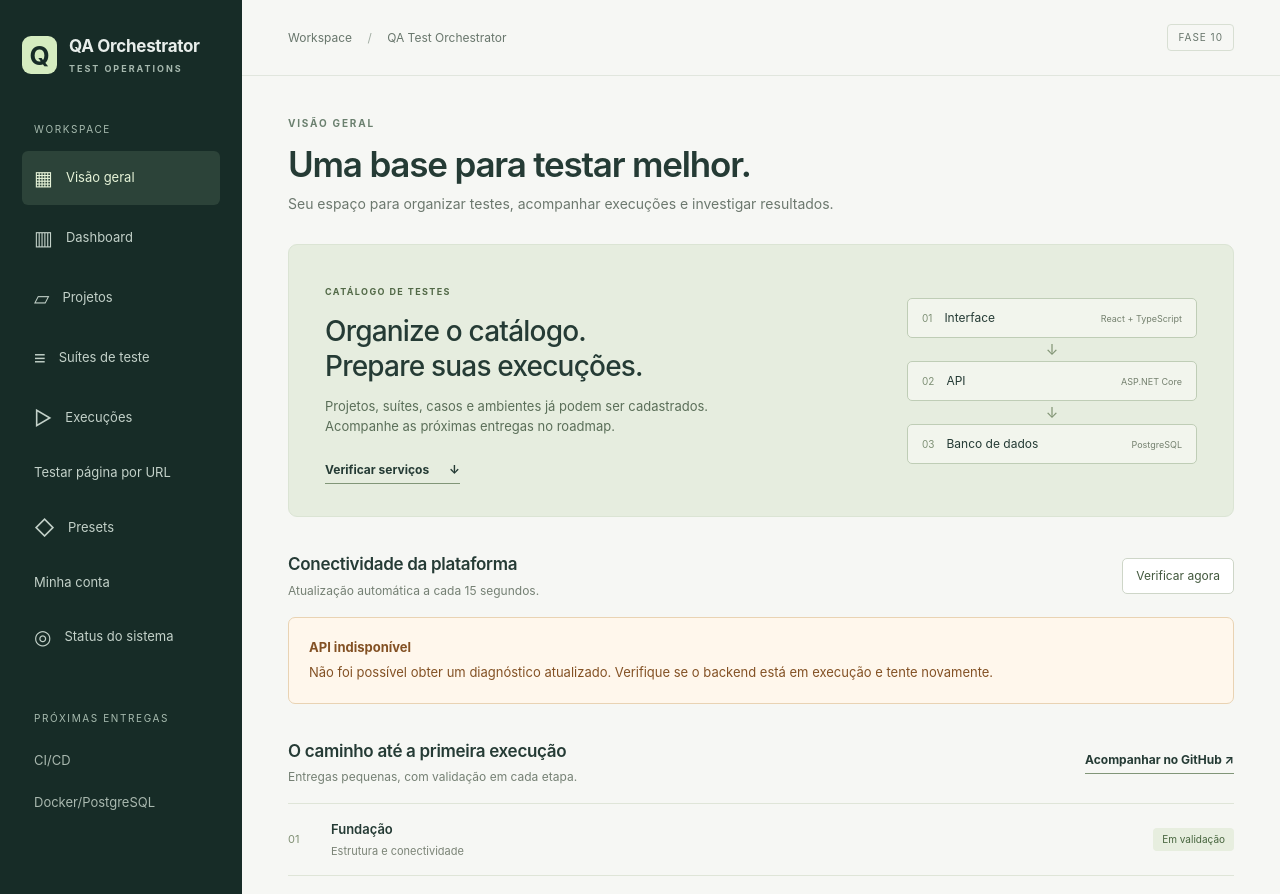
Scenario: Fundação da plataforma › permite tentar novamente após falha HTTP
Expected: the message shows "API indisponível", [309,638,411,654]
Click the button "Verificar agora".
click(1178, 576)  # box [1122,558,1234,594]
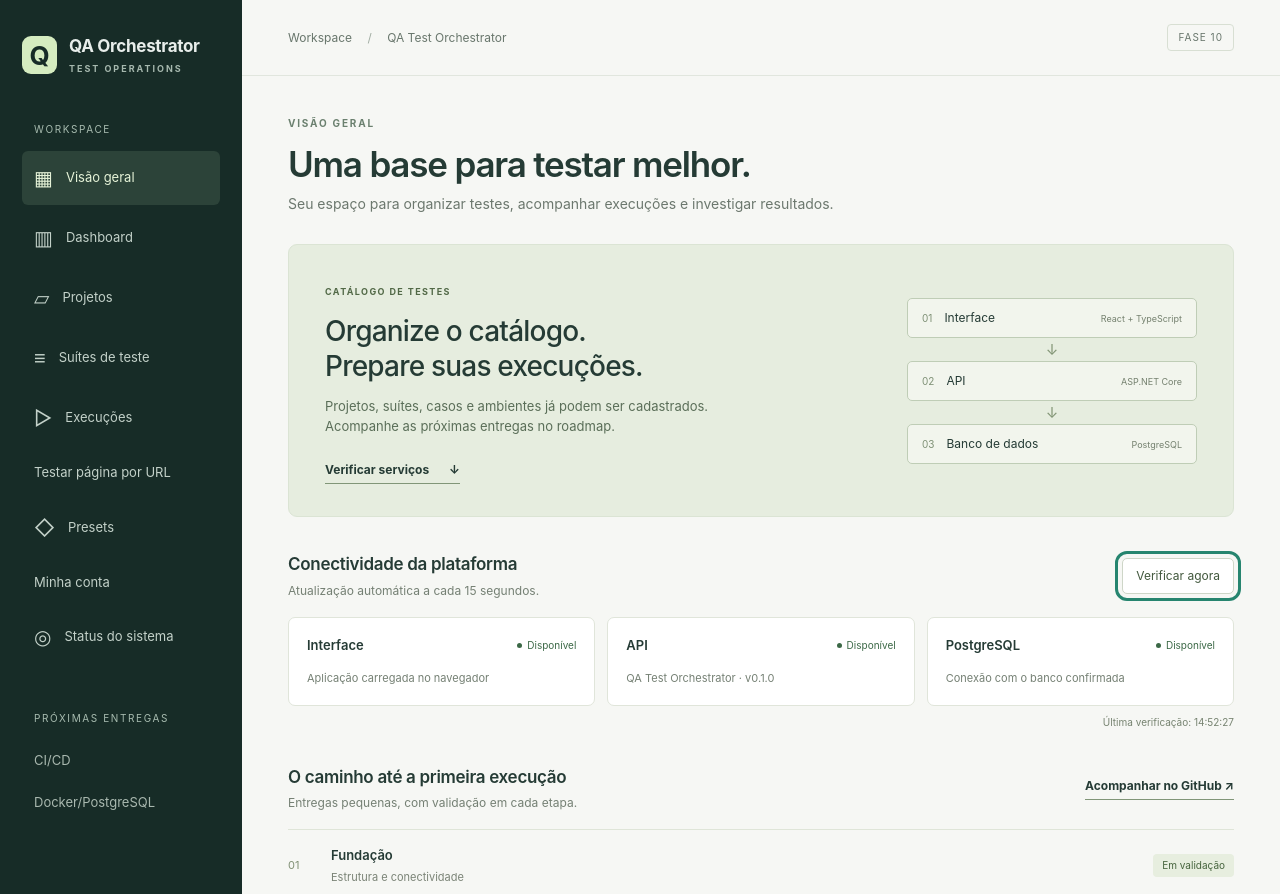
Expected: the text "Conexão com o banco confirmada" is shown, [946,671,1125,685]
